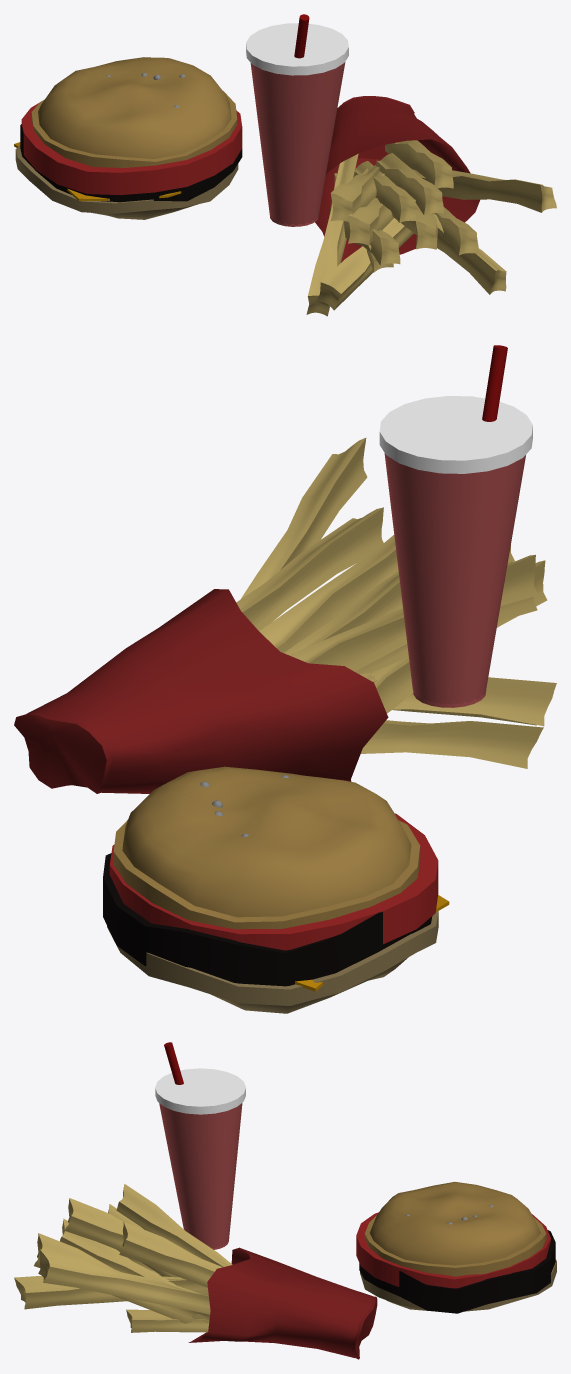
3 renders of one model, top to bottom at view 1: azimuth 30°, elevation 25°; view 2: azimuth 150°, elevation 25°; view 3: azimuth 270°, elevation 25°, orthographic. The views are drawn at different scales.
Visible parts, largest first — view 1: pSphere11, pCylinder7, pCone4, pCube2, pCube5, pCube14, pCube9, pCube10, pCube15, pCube7, pCube8, pCube11 (+3 smaller); view 2: pSphere11, pCone4, pCylinder7, pCube15, pCube5, pCube2, pCube10, pCube7, pCube14, pCube8, pCube3, pCube11; view 3: pSphere11, pCone4, pCylinder7, pCube2, pCube15, pCube7, pCube9, pCube10, pCube12, pCube13, pCube6.
Part boxes in pixels (x1=…): pSphere11: x1=14, y1=57, x2=242, y2=219; pCylinder7: x1=246, y1=14, x2=348, y2=226; pCone4: x1=315, y1=96, x2=479, y2=262; pCube2: x1=412, y1=169, x2=556, y2=212; pCube5: x1=306, y1=153, x2=358, y2=316; pCube14: x1=315, y1=218, x2=413, y2=310; pCube9: x1=381, y1=173, x2=506, y2=294; pCube10: x1=376, y1=153, x2=443, y2=215; pCube15: x1=385, y1=140, x2=453, y2=188; pCube7: x1=330, y1=164, x2=379, y2=221; pCube8: x1=354, y1=161, x2=418, y2=222; pCube11: x1=348, y1=197, x2=393, y2=245; pSphere11: x1=103, y1=766, x2=449, y2=1013; pCone4: x1=14, y1=589, x2=388, y2=793; pCylinder7: x1=379, y1=345, x2=532, y2=707; pCube15: x1=236, y1=507, x2=383, y2=630; pCube5: x1=360, y1=720, x2=543, y2=768; pCube2: x1=240, y1=438, x2=367, y2=599; pCube10: x1=259, y1=535, x2=398, y2=652; pCube7: x1=289, y1=554, x2=537, y2=671; pCube14: x1=392, y1=677, x2=556, y2=726; pCube8: x1=284, y1=571, x2=402, y2=654; pCube3: x1=371, y1=560, x2=547, y2=713; pCube11: x1=355, y1=575, x2=537, y2=674; pSphere11: x1=356, y1=1182, x2=556, y2=1313; pCone4: x1=188, y1=1247, x2=377, y2=1359; pCylinder7: x1=155, y1=1042, x2=245, y2=1249; pCube2: x1=38, y1=1249, x2=210, y2=1314; pCube15: x1=119, y1=1222, x2=222, y2=1287; pCube7: x1=116, y1=1184, x2=232, y2=1267; pCube9: x1=14, y1=1275, x2=208, y2=1309; pCube10: x1=64, y1=1198, x2=200, y2=1258; pCube12: x1=60, y1=1218, x2=209, y2=1322; pCube13: x1=34, y1=1233, x2=209, y2=1323; pCube6: x1=126, y1=1309, x2=209, y2=1332.
Bounding box in the file's own units: 15.36 × 13.06 × 25.09.
